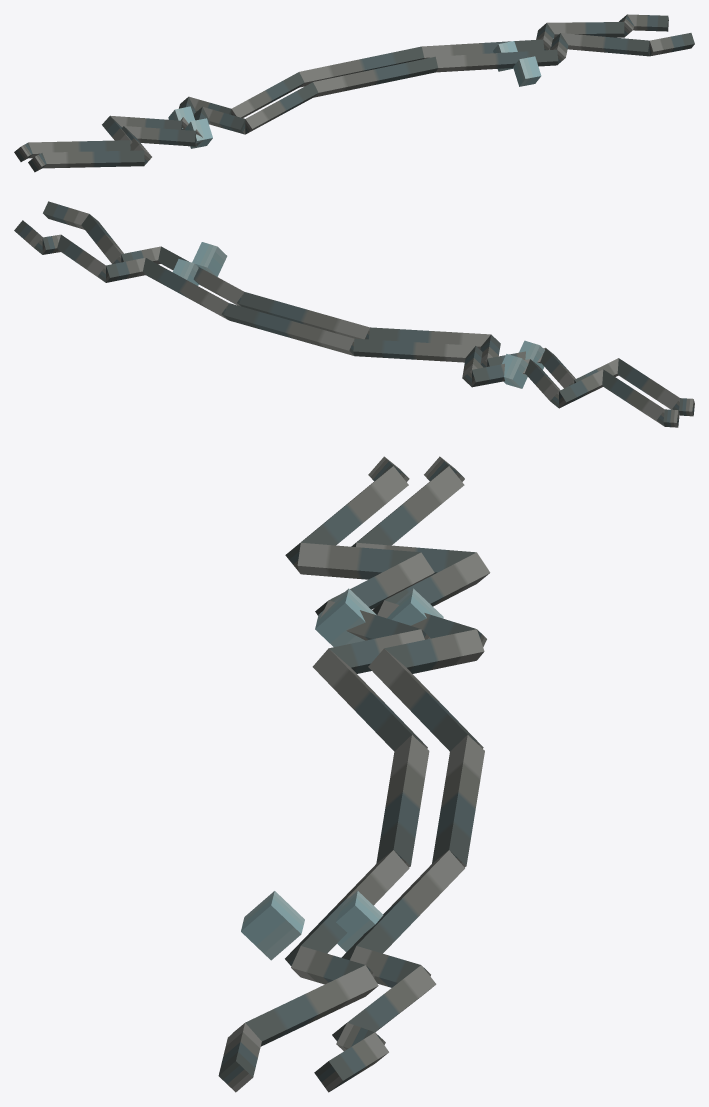
File: pz_native_electrical_201.obj
The picture shows the model from 3 angles, top to bottom: view 1: azimuth 30°, elevation 25°; view 2: azimuth 150°, elevation 25°; view 3: azimuth 270°, elevation 25°; orthographic projection. The views are drawn at different scales.
Visible parts, largest first — view 1: conduit, conduit_end; view 2: conduit, conduit_end; view 3: conduit, conduit_end.
Part boxes in pixels (x1,y1,x2,y2): conduit: [21, 14, 694, 171]; conduit_end: [14, 17, 668, 172]; conduit: [14, 201, 693, 427]; conduit_end: [34, 238, 694, 426]; conduit: [218, 456, 490, 1091]; conduit_end: [219, 466, 486, 1092].
Size of the model in its own units: 0.9957 by 0.042 by 0.1871.
Materials: 1 (1 with a texture image).
